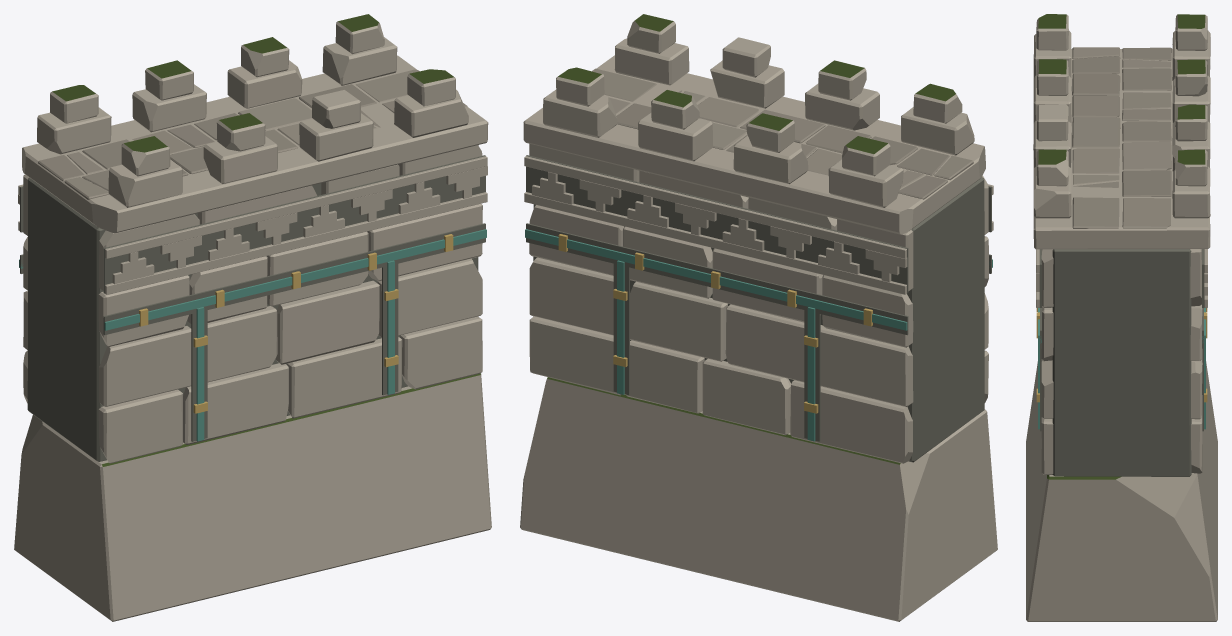
The model's file is zr_citadel_wall.glb.
3 renders of one model, left to right at view 1: azimuth 30°, elevation 25°; view 2: azimuth 150°, elevation 25°; view 3: azimuth 270°, elevation 25°, orthographic. The views are drawn at different scales.
Visible parts, largest first — view 1: zr_citadel_wall; view 2: zr_citadel_wall; view 3: zr_citadel_wall.
Boxes of the visible parts, x1,y1,x2,y2 form: zr_citadel_wall: (14, 14, 491, 621); zr_citadel_wall: (520, 14, 997, 621); zr_citadel_wall: (1026, 14, 1217, 621).
Size of what is drawn, in the model's own units: 8.02 by 9.16 by 3.59.
